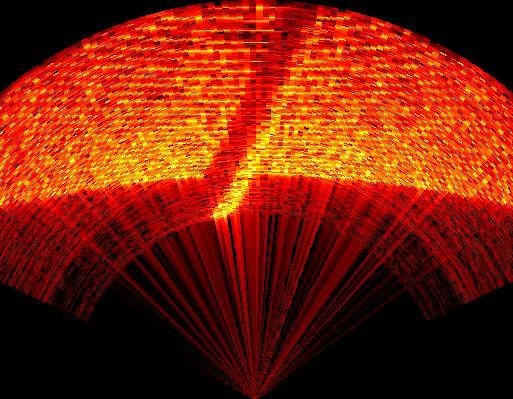pipe: (203, 4, 332, 218)
